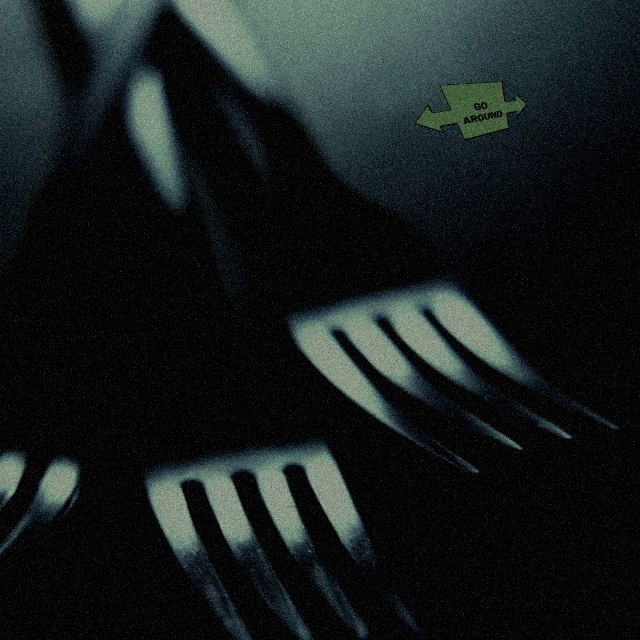GO_AROUND: (414, 81, 527, 140)
